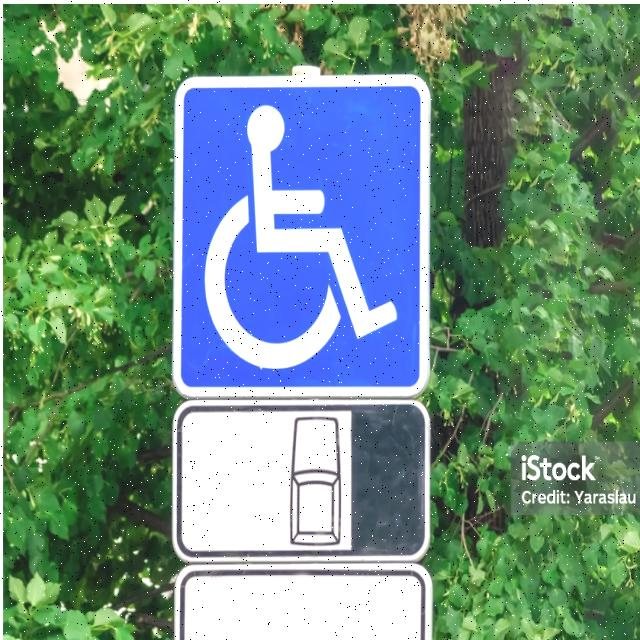symbol_of_access: (171, 72, 433, 399)
